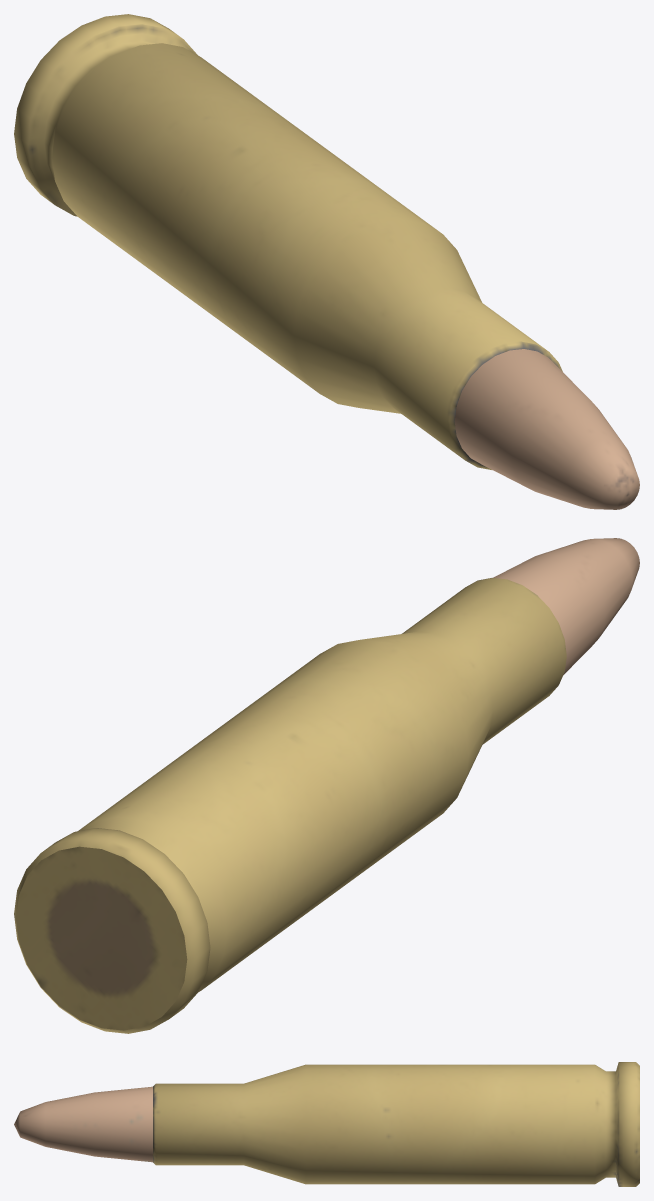
File: Bullet.obj
3 views of the same model, one above another, from view 1: azimuth 30°, elevation 25°; view 2: azimuth 150°, elevation 25°; view 3: azimuth 270°, elevation 25° (orthographic). The views are drawn at different scales.
Parts seen in each view (by area): view 1: WPN_cal_5_7x28_Untitled; view 2: WPN_cal_5_7x28_Untitled; view 3: WPN_cal_5_7x28_Untitled.
Part boxes in pixels (bbox=[...]): WPN_cal_5_7x28_Untitled: bbox=[14, 14, 639, 509]; WPN_cal_5_7x28_Untitled: bbox=[14, 538, 639, 1033]; WPN_cal_5_7x28_Untitled: bbox=[14, 1062, 639, 1186].
Size of the model in its own units: 0.00808 by 0.00808 by 0.0403.
